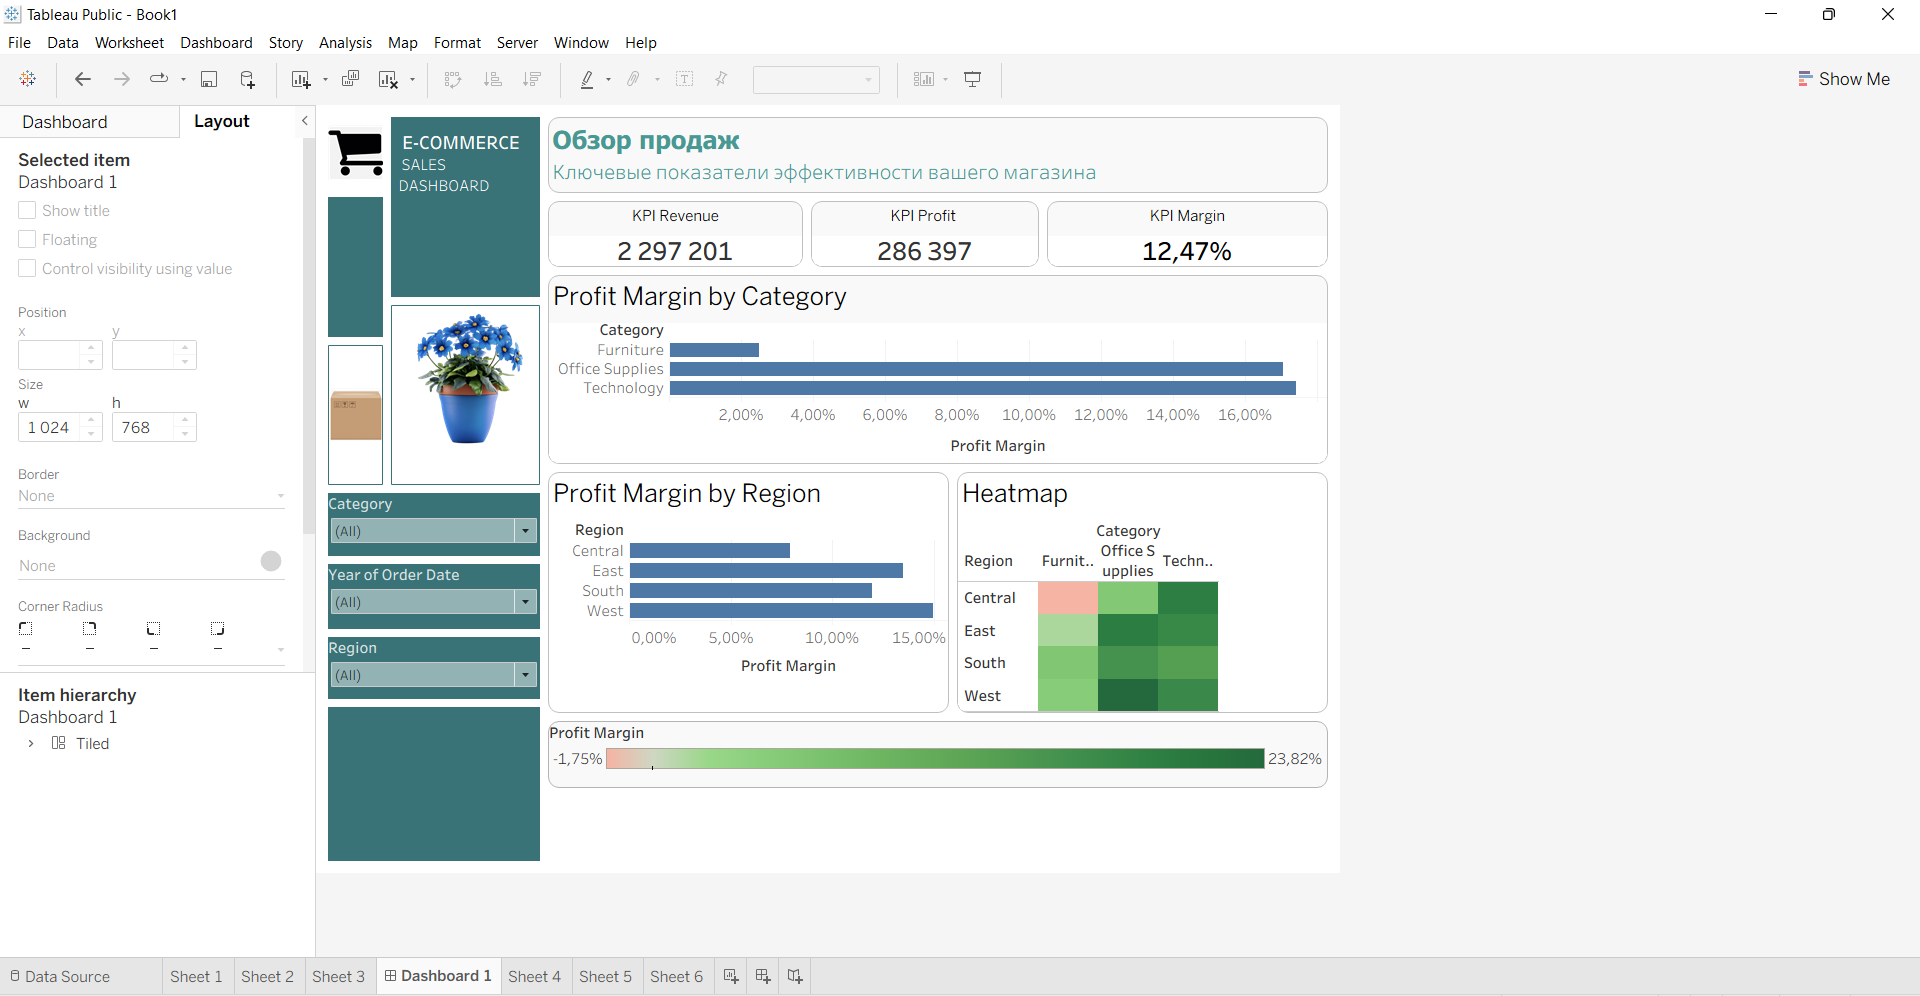

Layout of this report page (visuals, bound fields, positions):
{"tool":"tableau","page":{"name":"Dashboard 1","canvas":[1024,768],"ordinal":0},"visuals":[{"type":"image","param":"Image/png-transparent-supermarket-cart-icon.png","box":[8,8,63,80]},{"type":"text","box":[228,8,788,84]},{"type":"text","box":[75,12,149,92]},{"type":"worksheet","title":"Sheet 4","mark":"Automatic","box":[228,92,263,74]},{"type":"worksheet","title":"Sheet 5","mark":"Automatic","box":[491,92,236,74]},{"type":"worksheet","title":"Sheet 6","mark":"Automatic","box":[727,92,289,74]},{"type":"worksheet","title":"Sheet 1","mark":"Automatic","rows":["Category"],"cols":["Calculation_0377163442130944"],"box":[228,166,788,197]},{"type":"image","param":"Image/pngtree-delicate-blue-flowers-in-a-pot-png-image_14317407.png","box":[71,196,157,188]},{"type":"image","param":"Image/40f7143073ad834b555f1c6b01506480.png","box":[8,236,63,148]},{"type":"worksheet","title":"Sheet 2","mark":"Automatic","rows":["Region"],"cols":["Calculation_0377163442130944"],"box":[228,363,409,249]},{"type":"worksheet","title":"Sheet 3","mark":"Automatic","rows":["Region"],"cols":["Category"],"box":[637,363,379,249]},{"type":"filter","title":"Sheet 1","param":"[federated.0bmowaw1x5ql1m14p1kek0wzpccr].[none:Category:nk]","box":[8,384,220,71]},{"type":"filter","title":"Sheet 3","param":"[federated.0bmowaw1x5ql1m14p1kek0wzpccr].[yr:Order Date:ok]","box":[8,455,220,73]},{"type":"filter","title":"Sheet 2","param":"[federated.0bmowaw1x5ql1m14p1kek0wzpccr].[none:Region:nk]","box":[8,528,220,70]},{"type":"legend","title":"Sheet 3","param":"[federated.0bmowaw1x5ql1m14p1kek0wzpccr].[usr:Calculation_0377163442130944:qk]","box":[228,612,788,75]}]}

Visuals, with their boxes on the page's 1024x768 design canvas (x1, y1, x2, y2). These are canvas units, not pixel positions in the 1920x996 screenshot, which may show the page scaled, cropped or inside an application window:
image: 8/8/71/88
text: 228/8/1016/92
text: 75/12/224/104
"Sheet 4" worksheet: 228/92/491/166
"Sheet 5" worksheet: 491/92/727/166
"Sheet 6" worksheet: 727/92/1016/166
"Sheet 1" worksheet: 228/166/1016/363
image: 71/196/228/384
image: 8/236/71/384
"Sheet 2" worksheet: 228/363/637/612
"Sheet 3" worksheet: 637/363/1016/612
"Sheet 1" filter: 8/384/228/455
"Sheet 3" filter: 8/455/228/528
"Sheet 2" filter: 8/528/228/598
"Sheet 3" legend: 228/612/1016/687
